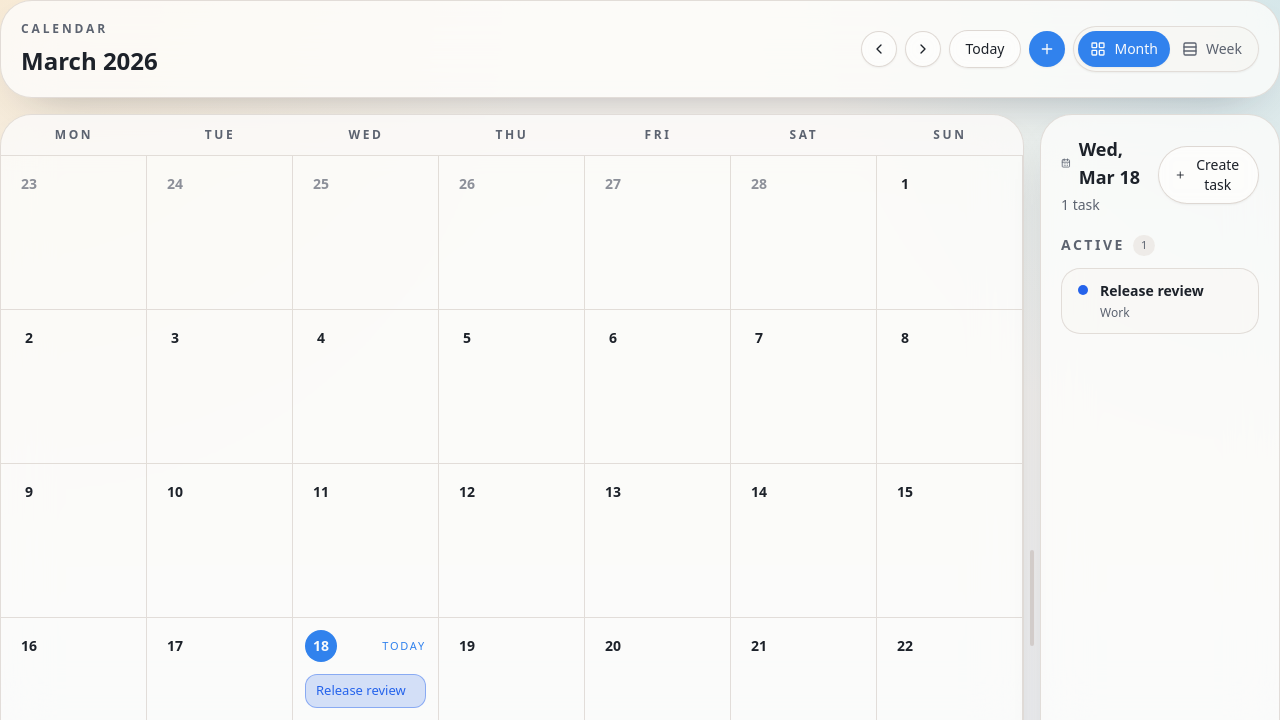
Test: CalendarPageView › switches between month and week layouts
Click the button "Week" at [1212, 49], box [1170, 31, 1254, 67]
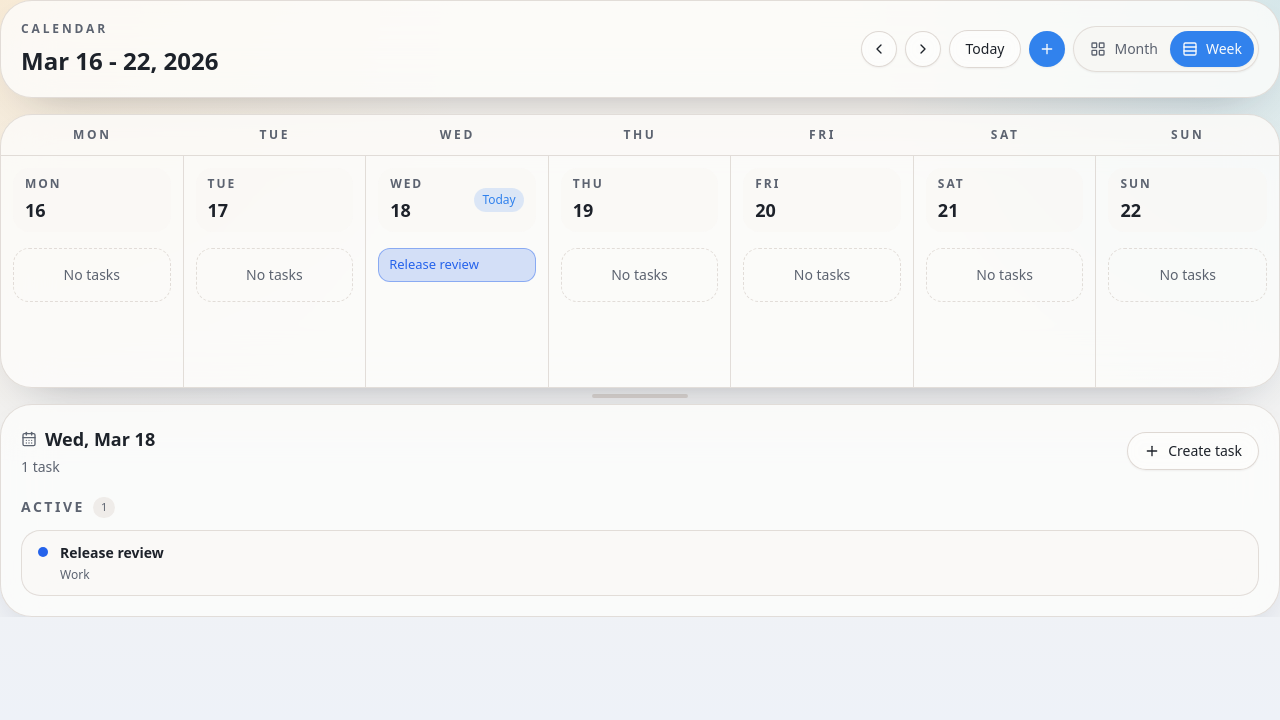
Expected: the heading "Mar 16 - 22, 2026" is shown, [21, 45, 218, 77]
Expected: the button with test id "calendar-week-split-handle" is shown, [0, 388, 1279, 404]
